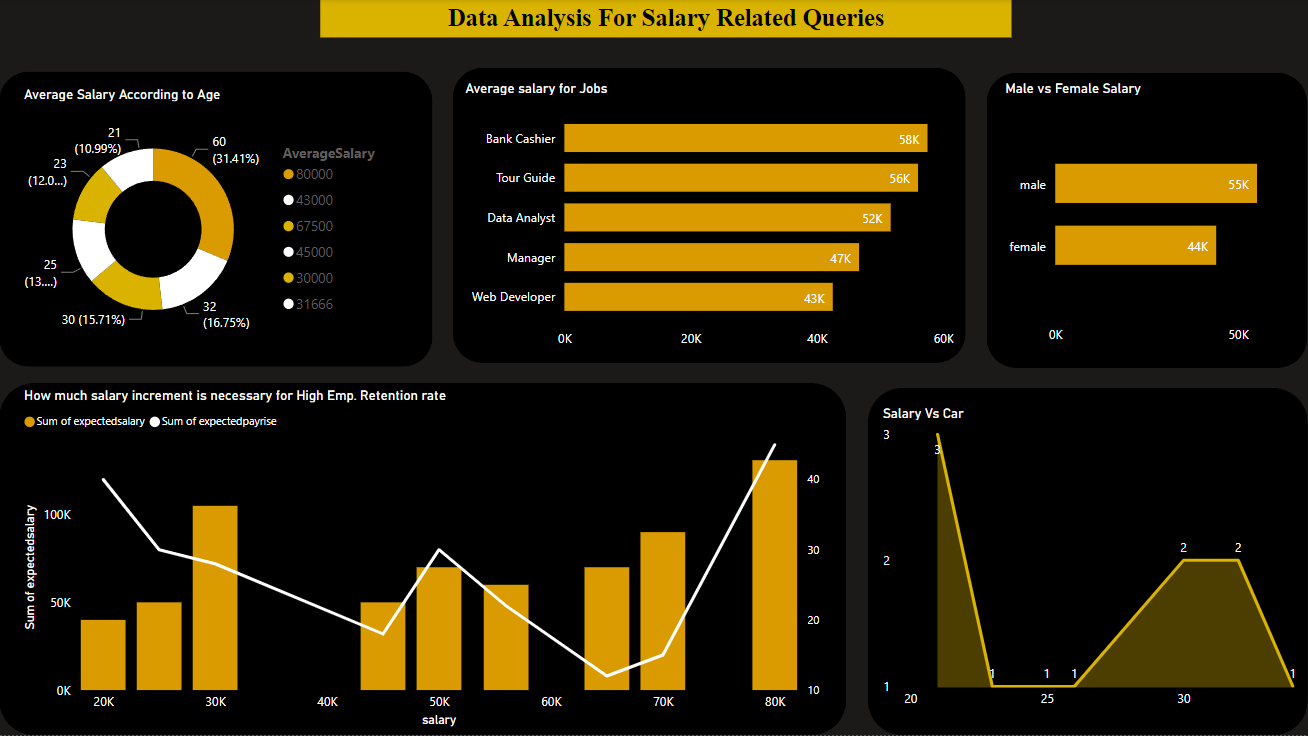

What the dashboard file says about the page in this screenshot:
{"tool":"powerbi","page":{"name":"Page 1","canvas":[1280,720],"ordinal":0},"visuals":[{"type":"shape","box":[0,71.4,424.3,288.6],"z":0},{"type":"donutChart","title":"Average Salary According to Age","fields":{"Category":["Question 1.AverageSalary"],"Y":["Sum(Question 1.age)"]},"box":[20,85,368.8,265],"z":1000},{"type":"shape","box":[444.3,67.1,501.4,288.6],"z":2000},{"type":"shape","box":[0,375,828.8,345],"z":3000},{"type":"barChart","title":"Average salary for Jobs","fields":{"Y":["Sum(Question 2.AverageSalary)"],"Category":["Question 2.jobtitle"]},"box":[451.2,80,487.5,271.2],"z":4000},{"type":"lineClusteredColumnComboChart","title":"How much salary increment is necessary for High Emp. Retention rate","fields":{"Y2":["Sum(Question 3.expectedpayrise)"],"Category":["Question 3.salary"],"Y":["Sum(Question 3.expectedsalary)"]},"box":[20,380,788.8,336.2],"z":5000},{"type":"textbox","box":[313.8,0,676.2,37.5],"z":6000},{"type":"shape","box":[966.2,72.5,313.8,288.8],"z":7000},{"type":"barChart","title":"Male vs Female Salary","fields":{"Category":["Male vs Female Earn.gender"],"Y":["Sum(Male vs Female Earn.AverageSalary)"]},"box":[978.8,80,283.8,267.5],"z":8000},{"type":"shape","box":[850,380,430,340],"z":9000},{"type":"areaChart","title":"Salary Vs Car","fields":{"Category":["car.age"],"Y":["CountNonNull(car.haspurchasedcar)"]},"box":[858.8,397.5,421.2,305],"z":10000}]}

Visuals, with their boxes in screenshot pixels (x1, y1, x2, y2), scaled from the page's 1280x720 canvas onto the 1308x736 screenshot:
shape: (x1=0, y1=73, x2=434, y2=368)
"Average Salary According to Age" donutChart: (x1=20, y1=87, x2=397, y2=358)
shape: (x1=454, y1=69, x2=966, y2=364)
shape: (x1=0, y1=383, x2=847, y2=735)
"Average salary for Jobs" barChart: (x1=461, y1=82, x2=959, y2=359)
"How much salary increment is necessary for High Emp. Retention rate" lineClusteredColumnComboChart: (x1=20, y1=388, x2=826, y2=732)
textbox: (x1=321, y1=0, x2=1012, y2=38)
shape: (x1=987, y1=74, x2=1307, y2=369)
"Male vs Female Salary" barChart: (x1=1000, y1=82, x2=1290, y2=355)
shape: (x1=869, y1=388, x2=1307, y2=735)
"Salary Vs Car" areaChart: (x1=878, y1=406, x2=1307, y2=718)
